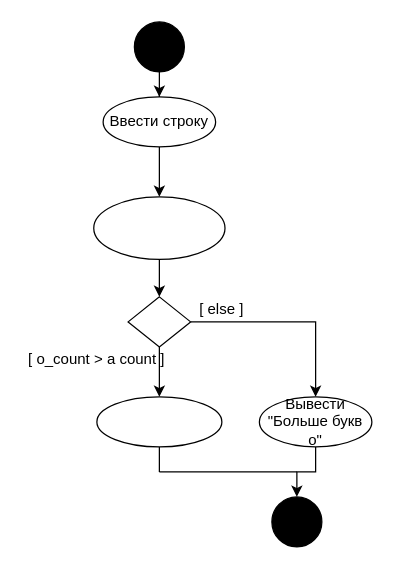
Some shapes in this 394 by 569 pixel diagram are drawn without their labels. The box of each missing label's shape, as (x1, y1, x2, y2) in pixels:
Вывести "Больше букв а": (96, 396, 222, 447)
Посчитать количество а и о в строке: (92, 196, 225, 259)
